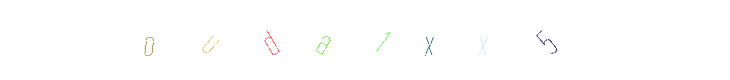1: (325, 0, 405, 80)
5: (470, 0, 550, 80)
A: (306, 0, 386, 80)
D: (231, 0, 311, 80)
O: (109, 0, 189, 80)
U: (173, 0, 253, 80)
X: (333, 0, 413, 80), (439, 0, 519, 80)
